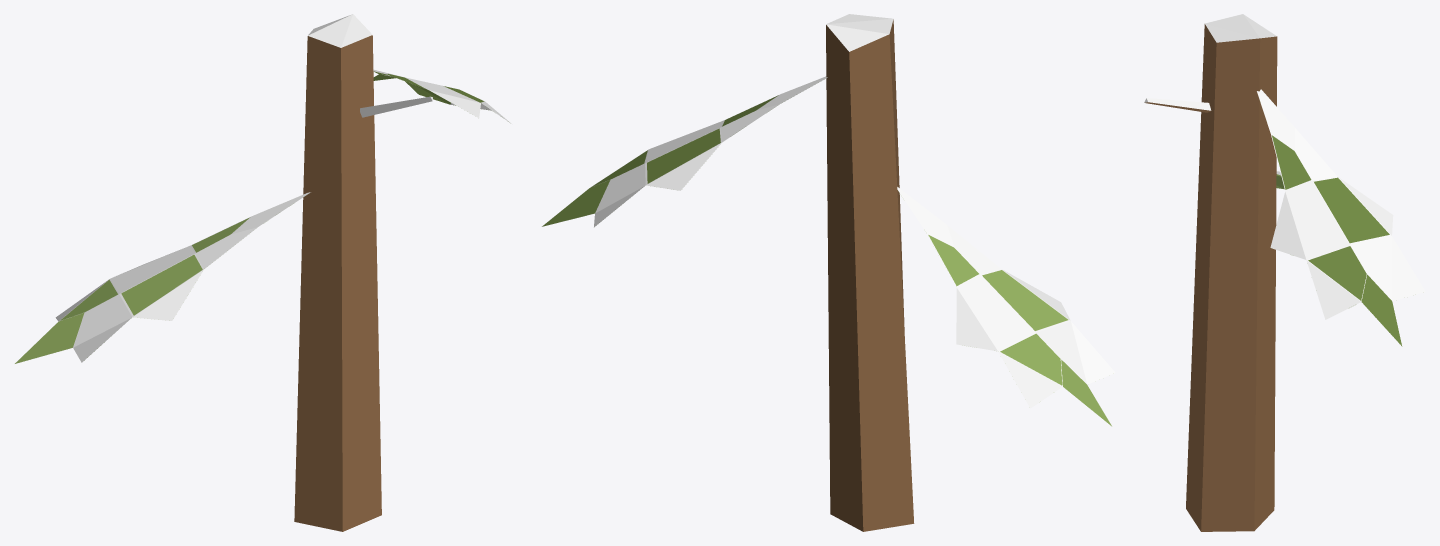
File: Dead_Pine_Tree_crk_l_Snow_03_LOD.fbx
3 views of the same model, side by side, from view 1: azimuth 30°, elevation 25°; view 2: azimuth 150°, elevation 25°; view 3: azimuth 270°, elevation 25° (orthographic). The views are drawn at different scales.
Visible parts, largest first — view 1: Dead_Pine_Tree_crk_l_Snow_03_LOD0; view 2: Dead_Pine_Tree_crk_l_Snow_03_LOD0; view 3: Dead_Pine_Tree_crk_l_Snow_03_LOD0.
Boxes of the visible parts, x1,y1,x2,y2 form: Dead_Pine_Tree_crk_l_Snow_03_LOD0: [15, 14, 511, 531]; Dead_Pine_Tree_crk_l_Snow_03_LOD0: [542, 14, 1115, 531]; Dead_Pine_Tree_crk_l_Snow_03_LOD0: [1144, 14, 1425, 531].
Size of what is drawn, in the model's own units: 463 by 410 by 212.
